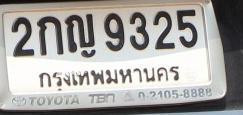Bangkok: (35, 64, 183, 89)
